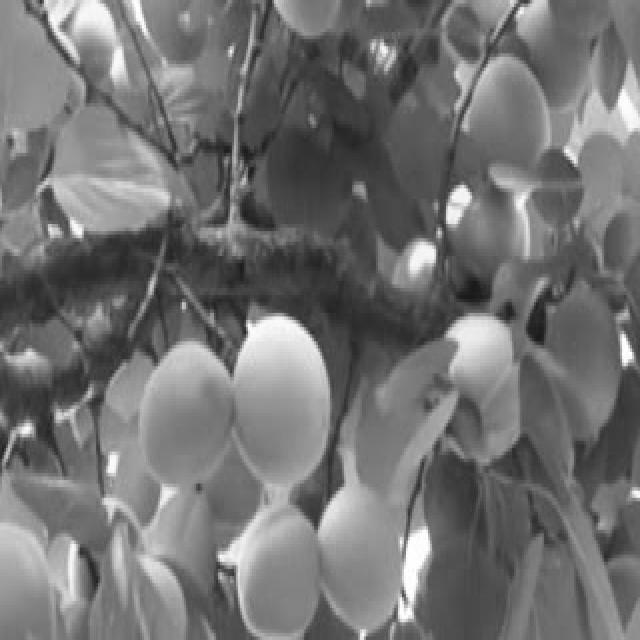kayisi: (245, 337, 318, 467), (151, 370, 238, 469)
yaprak: (446, 499, 528, 624), (354, 368, 429, 472)
